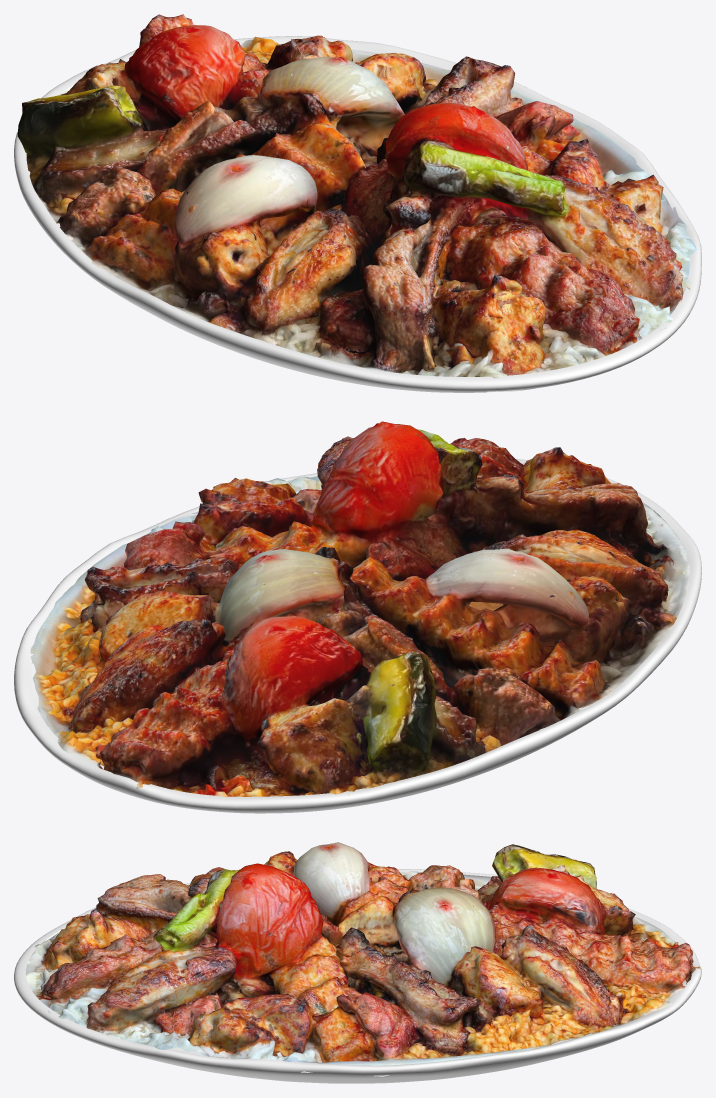
File: mix-platter-for-2.glb
3 views of the same model, one above another, from view 1: azimuth 30°, elevation 25°; view 2: azimuth 150°, elevation 25°; view 3: azimuth 270°, elevation 25° (orthographic). The views are drawn at different scales.
Visible parts, largest first — view 1: baked_mesh, Circle; view 2: baked_mesh, Circle; view 3: baked_mesh, Circle.
Boxes of the visible parts, bbox=[...] form: baked_mesh: bbox=[17, 14, 696, 392]; Circle: bbox=[14, 36, 701, 392]; baked_mesh: bbox=[30, 421, 689, 797]; Circle: bbox=[14, 459, 701, 813]; baked_mesh: bbox=[23, 842, 701, 1076]; Circle: bbox=[14, 869, 701, 1083].
Bounding box in the file's own units: 0.8512 × 0.3106 × 1.22.
2 materials, 1 textured.
